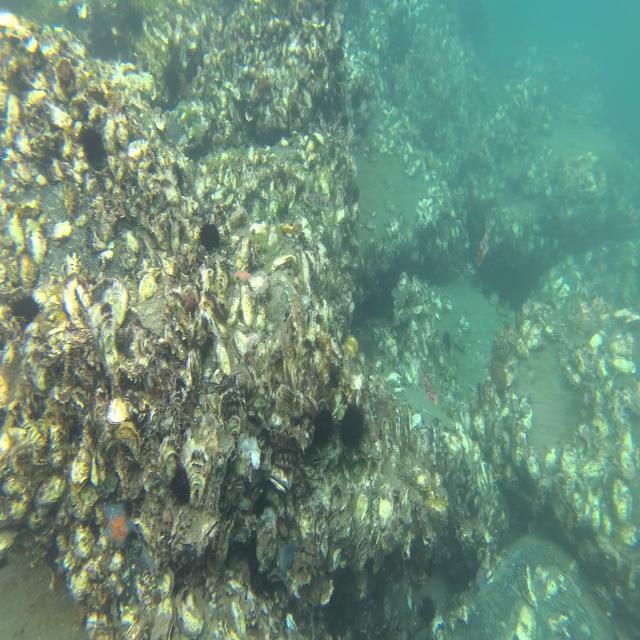echinus: (337, 397, 371, 458), (77, 124, 110, 172), (6, 291, 44, 329), (165, 463, 193, 512), (194, 216, 226, 257), (311, 403, 337, 453), (158, 54, 185, 102), (417, 592, 436, 628), (170, 160, 187, 195), (440, 327, 453, 356)
scallop: (230, 327, 250, 362)
starfish: (100, 498, 138, 551), (231, 266, 253, 288), (474, 561, 489, 593), (351, 182, 360, 207)
